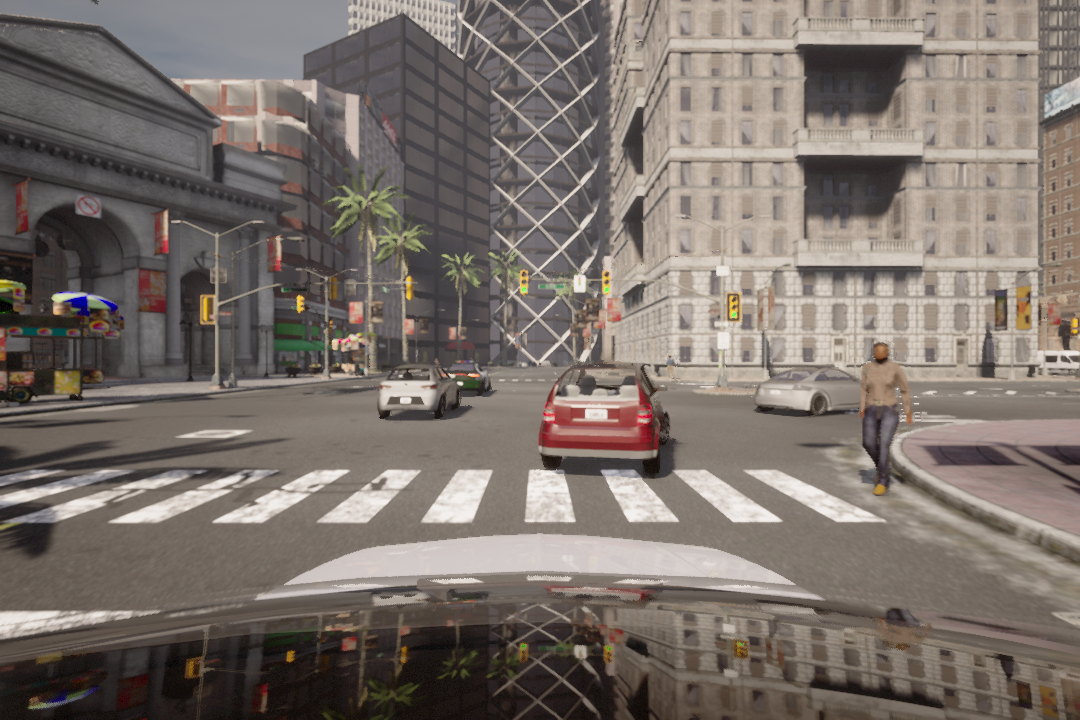TrafficLight: (518, 269, 533, 299), (727, 294, 742, 320), (598, 271, 612, 297)
TrafficSign: (76, 194, 102, 217)
walkside: (5, 467, 887, 534)
